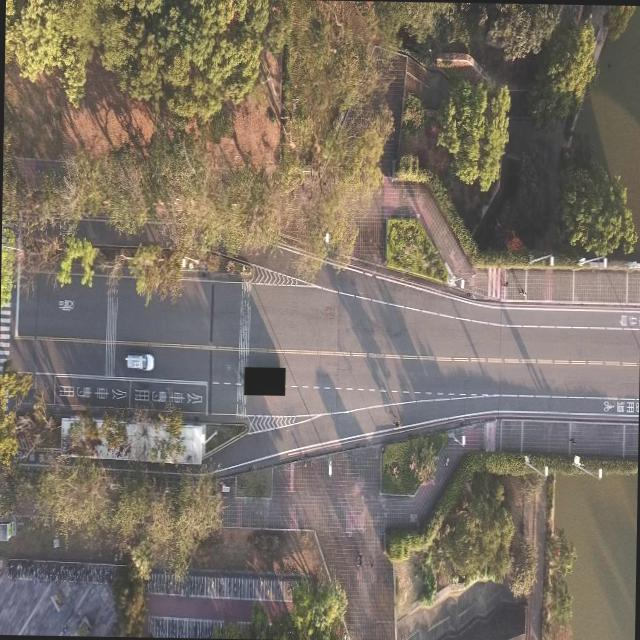car: (124, 351, 154, 372)
